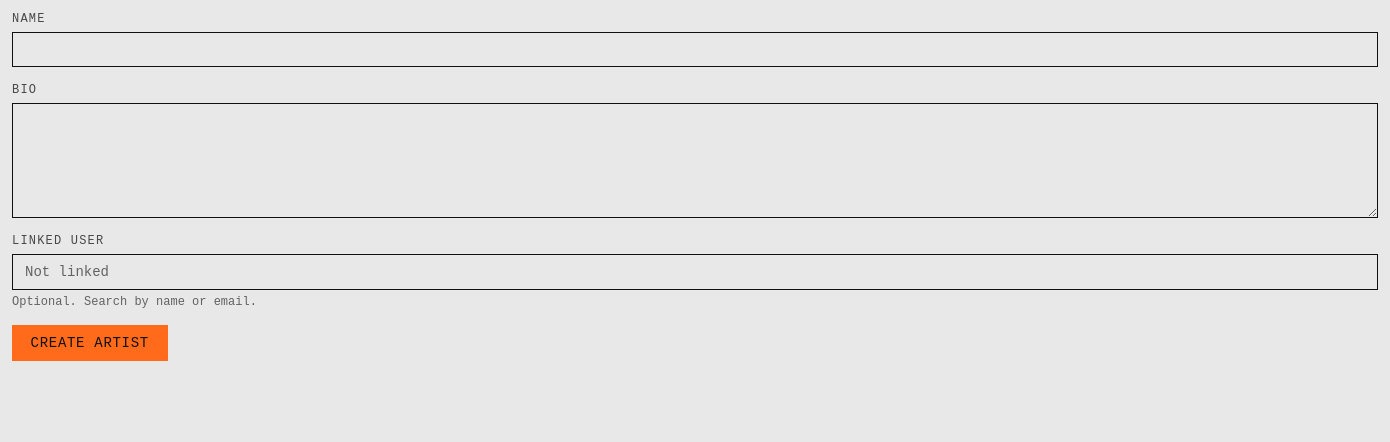
Test: ArtistForm › shows the action's error
Click the button "Create artist". click: (90, 343)
box: [12, 325, 168, 361]
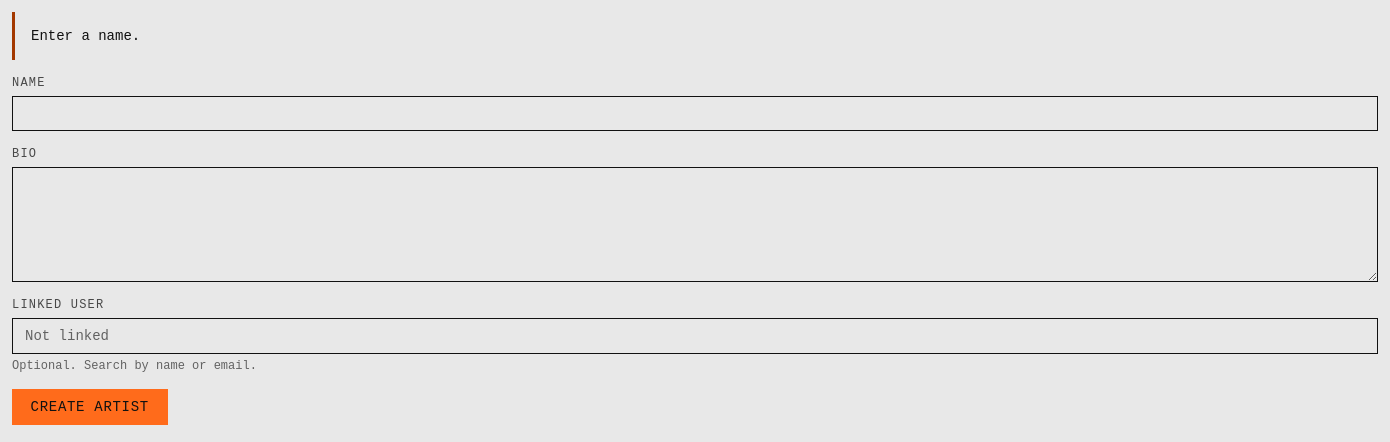
Expected: the message reads "Enter a name.", [31, 28, 140, 44]
